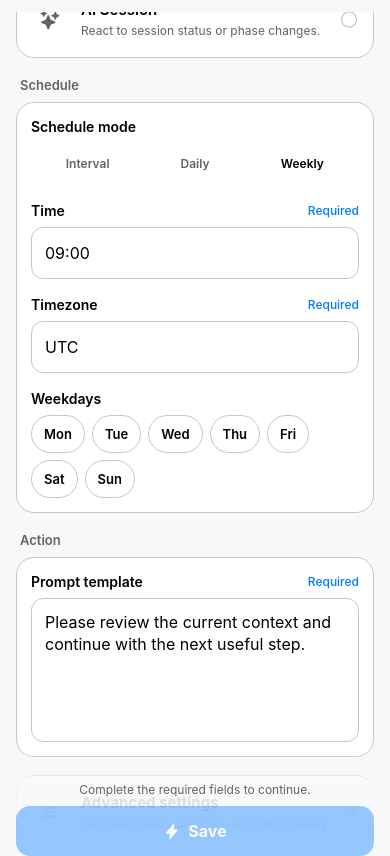
Test: <TriggerForm /> › requires a complete weekly schedule and file-change source
(page scrolled)
Check: the button "Save" is disabled, box [16, 806, 374, 855]
Click the checkbox labelled "Mon" at (58, 434), box [31, 415, 85, 453]
(page scrolled)
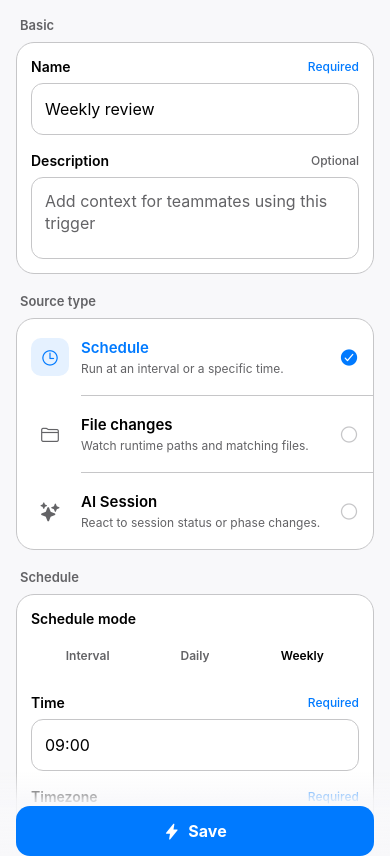
Check: the button "Save" is enabled, box [16, 806, 374, 855]
Click the radio button labelled "File changes" at (50, 434), box [31, 415, 359, 453]
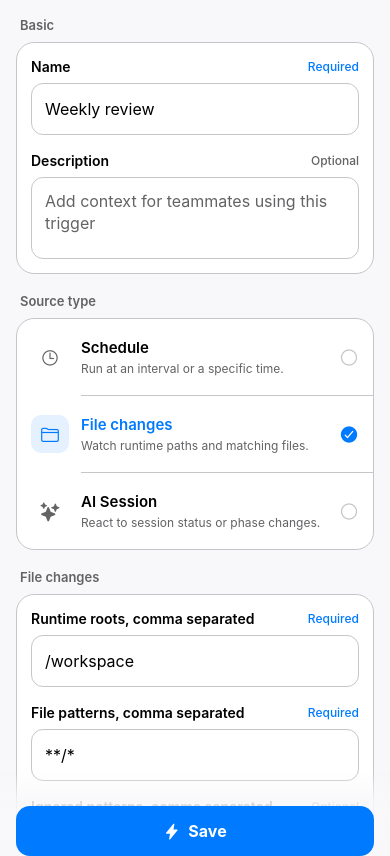
Clear the field named "Runtime roots, comma separated" at (195, 661), box [31, 635, 359, 687]
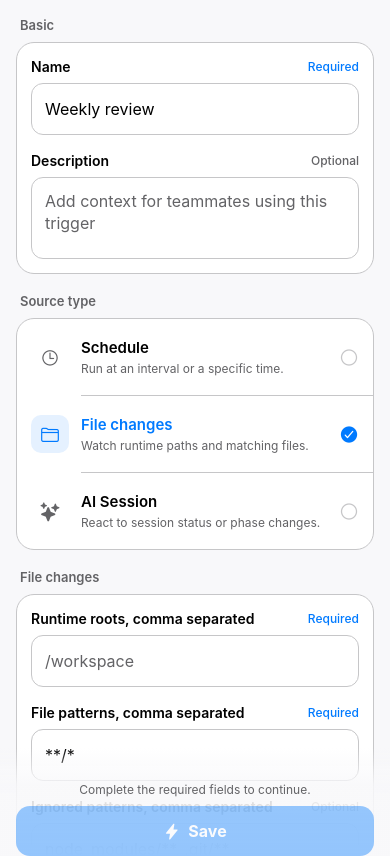
Check: the button "Save" is disabled, box [16, 806, 374, 855]
